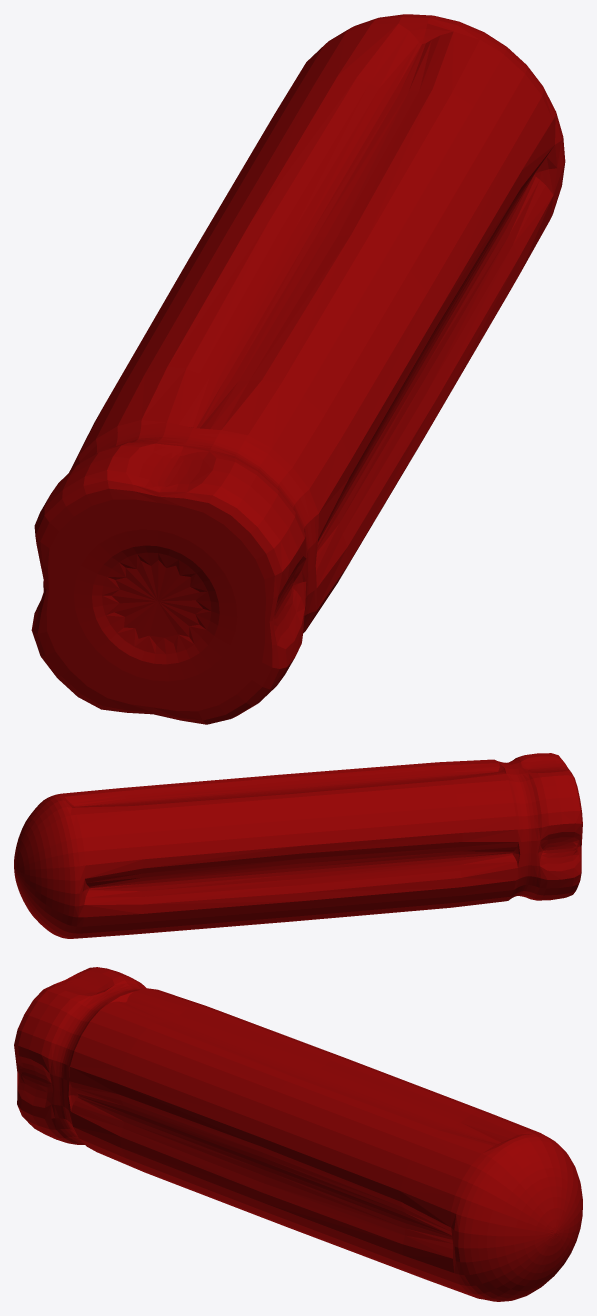
The model's file is screwdriver_handle.obj.
3 views of the same model, one above another, from view 1: azimuth 30°, elevation 25°; view 2: azimuth 150°, elevation 25°; view 3: azimuth 270°, elevation 25° (orthographic). The views are drawn at different scales.
Visible parts, largest first — view 1: screwdriver_handle; view 2: screwdriver_handle; view 3: screwdriver_handle.
Part boxes in pixels (x1,y1,x2,y2): screwdriver_handle: (31,14,565,724); screwdriver_handle: (14,753,582,938); screwdriver_handle: (14,967,582,1301).
Size of the model in its own units: 4.37 by 1.46 by 4.39.
